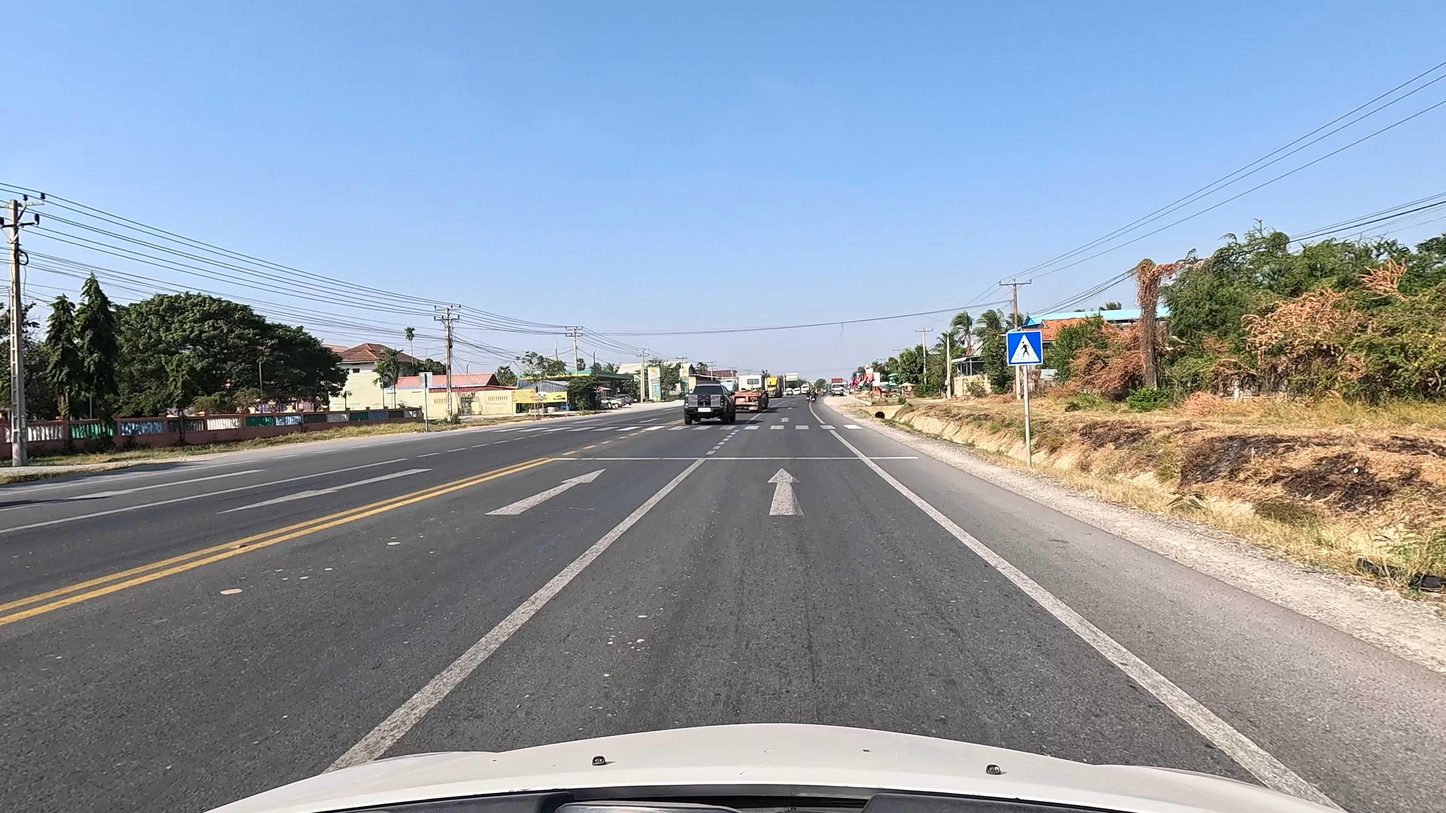pedestrian_crossing: (1005, 330, 1044, 366)
